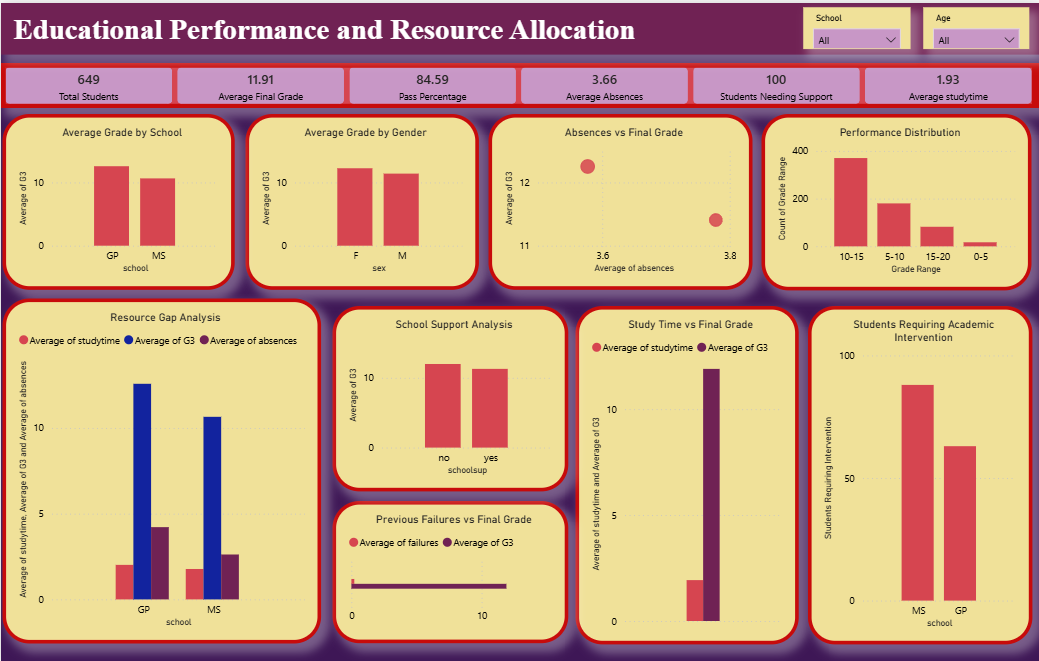

The dashboard page shown, as its layout file describes it:
{"tool":"powerbi","page":{"name":"Page 1","canvas":[1155,735],"ordinal":0},"visuals":[{"type":"cardVisual","fields":{"Data":["student-por.Total Students","student-por.Average Final Grade","student-por.Pass Percentage","student-por.Average Absences","student-por.At Risk Students","Avg(student-por.studytime)"]},"box":[0,67,1153,50],"z":0},{"type":"textbox","box":[0,0,1162.9,57.1],"z":1000},{"type":"clusteredColumnChart","title":"Average Grade by Gender","fields":{"Category":["student-por.sex"],"Y":["Avg(student-por.G3)"]},"box":[271,123,259,195],"z":2000},{"type":"clusteredColumnChart","title":"Average Grade by School","fields":{"Category":["student-por.school"],"Y":["Avg(student-por.G3)"]},"box":[2,123,258,195],"z":3000},{"type":"scatterChart","title":"Absences vs Final Grade","fields":{"X":["Avg(student-por.absences)"],"Y":["Avg(student-por.G3)"],"Size":["Avg(student-por.studytime)"],"Category":["student-por.sex"]},"box":[542,124,293,195],"z":4000},{"type":"clusteredColumnChart","title":"Study Time vs Final Grade","fields":{"Y":["Avg(student-por.studytime)","Avg(student-por.G3)"]},"box":[638,336,248,376],"z":5000},{"type":"clusteredBarChart","title":"Previous Failures vs Final Grade","fields":{"Y":["Avg(student-por.failures)","Avg(student-por.G3)"]},"box":[368,554,262,158],"z":6000},{"type":"slicer","fields":{"Values":["student-por.school"]},"box":[891.4,4.3,118.6,45.7],"z":7000},{"type":"clusteredColumnChart","title":"School Support Analysis","fields":{"Category":["student-por.schoolsup"],"Y":["Avg(student-por.G3)"]},"box":[368,336,262,206],"z":8000},{"type":"clusteredColumnChart","title":"Resource Gap Analysis","fields":{"Category":["student-por.school"],"Y":["Avg(student-por.studytime)","Avg(student-por.G3)","Avg(student-por.absences)"]},"box":[2,329,354,383],"z":9000},{"type":"clusteredColumnChart","title":"Students Requiring Academic Intervention","fields":{"Category":["student-por.school"],"Y":["student-por.Students Requiring Intervention"]},"box":[897,336,249,376],"z":10000},{"type":"clusteredColumnChart","title":"Performance Distribution","fields":{"Category":["student-por.Grade Range"],"Y":["CountNonNull(student-por.Grade Range)"]},"box":[845.7,122.9,300,195.7],"z":11000},{"type":"slicer","fields":{"Values":["student-por.age"]},"box":[1025.7,4.3,117.1,45.7],"z":12001}]}

Visuals, with their boxes in screenshot pixels (x1, y1, x2, y2), scaled from the page's 1155x735 canvas onto the 1039x661 screenshot:
cardVisual - student-por.Total Students x student-por.Average Final Grade: region(0, 60, 1037, 105)
textbox: region(0, 0, 1038, 51)
"Average Grade by Gender" clusteredColumnChart: region(244, 111, 477, 286)
"Average Grade by School" clusteredColumnChart: region(2, 111, 234, 286)
"Absences vs Final Grade" scatterChart: region(488, 112, 751, 287)
"Study Time vs Final Grade" clusteredColumnChart: region(574, 302, 797, 640)
"Previous Failures vs Final Grade" clusteredBarChart: region(331, 498, 567, 640)
slicer - student-por.school: region(802, 4, 909, 45)
"School Support Analysis" clusteredColumnChart: region(331, 302, 567, 487)
"Resource Gap Analysis" clusteredColumnChart: region(2, 296, 320, 640)
"Students Requiring Academic Intervention" clusteredColumnChart: region(807, 302, 1031, 640)
"Performance Distribution" clusteredColumnChart: region(761, 111, 1031, 287)
slicer - student-por.age: region(923, 4, 1028, 45)
